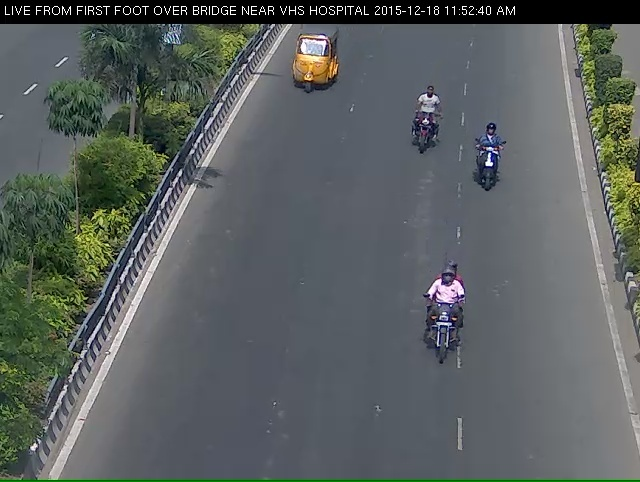Auto: (286, 34, 340, 103)
Person: (421, 278, 476, 386), (404, 88, 441, 165), (473, 131, 507, 203)
